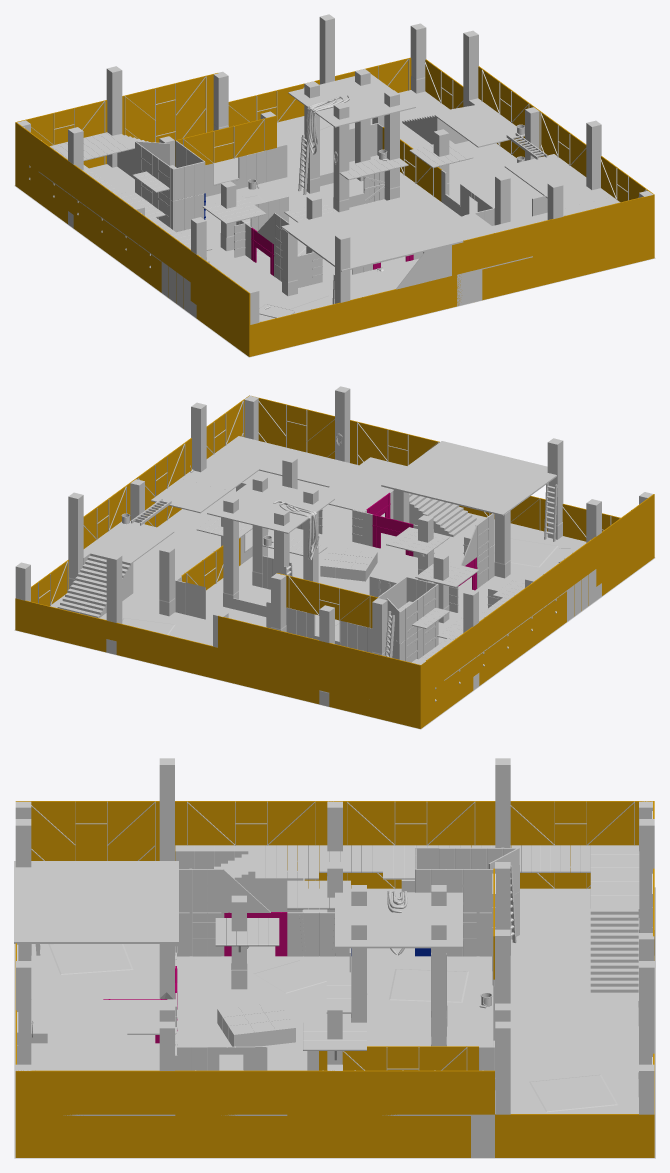
The model's file is Level1.fbx.
The picture shows the model from 3 angles, top to bottom: view 1: azimuth 30°, elevation 25°; view 2: azimuth 150°, elevation 25°; view 3: azimuth 270°, elevation 25°; orthographic projection. The views are drawn at different scales.
Visible parts, largest first — view 1: Plane, Floor_5x5.001, Wall__10x3__18_.026, Wall__10x3__18_.001, Wall__10x3__18_.027, Wall__10x3__18_.002, Wall__10x3__18_.003, Wall__10x3__18_.015, Floor_10x10__16_, Wall__10x3__18_.029, Wall__10x3__18_.028, Wall__10x3__18_.017 (+54 smaller); view 2: Plane, Floor_5x5.001, Wall__10x3__18_.015, Wall__10x3__18_.013, Wall__10x3__18_.017, Wall__10x3__18_.014, Wall__10x3__18_.012, Wall__10x3__18_.016, Floor_10x10__16_, Wall__10x3__18_.029, Stairs__1_, Wall__10x3__18_.002 (+57 smaller); view 3: Plane, Floor_5x5.001, Wall__10x3__18_.006, Wall__10x3__18_.008, Wall__10x3__18_.004, Wall__10x3__18_.010, Wall__10x3__18_.007, Wall__10x3__18_.023, Wall__10x3__18_.021, Wall__10x3__18_.005, Floor_10x10__16_, Wall__10x3__18_.025 (+56 smaller).
Part boxes in pixels (x1,y1,x2,y2): Plane: (14, 90, 655, 357); Floor_5x5.001: (281, 196, 463, 271); Wall__10x3__18_.026: (248, 300, 350, 356); Wall__10x3__18_.001: (452, 219, 553, 275); Wall__10x3__18_.027: (350, 276, 451, 332); Wall__10x3__18_.002: (553, 195, 653, 250); Wall__10x3__18_.003: (553, 227, 653, 282); Wall__10x3__18_.015: (122, 73, 218, 128); Floor_10x10__16_: (288, 74, 415, 127); Wall__10x3__18_.029: (175, 115, 276, 166); Wall__10x3__18_.028: (452, 251, 553, 307); Wall__10x3__18_.017: (15, 100, 107, 146); Plane: (14, 470, 655, 729); Floor_5x5.001: (381, 441, 556, 515); Wall__10x3__18_.015: (218, 615, 319, 672); Wall__10x3__18_.013: (116, 622, 217, 679); Wall__10x3__18_.017: (319, 641, 420, 696); Wall__10x3__18_.014: (218, 648, 319, 704); Wall__10x3__18_.012: (15, 598, 116, 652); Wall__10x3__18_.016: (319, 672, 419, 728); Floor_10x10__16_: (207, 480, 334, 533); Wall__10x3__18_.029: (277, 573, 378, 628); Stairs__1_: (57, 551, 133, 618); Wall__10x3__18_.002: (252, 396, 334, 448); Plane: (14, 887, 655, 1158); Floor_5x5.001: (14, 861, 178, 943); Wall__10x3__18_.006: (175, 1070, 334, 1114); Wall__10x3__18_.008: (335, 1070, 494, 1114); Wall__10x3__18_.004: (15, 1070, 175, 1114); Wall__10x3__18_.010: (495, 1113, 654, 1157); Wall__10x3__18_.007: (175, 1114, 334, 1157); Wall__10x3__18_.023: (175, 801, 334, 845); Wall__10x3__18_.021: (335, 801, 494, 845); Wall__10x3__18_.005: (15, 1114, 175, 1157); Floor_10x10__16_: (335, 892, 462, 948); Wall__10x3__18_.025: (15, 801, 175, 845).
Bounding box in the file's own units: 4018 × 1100 × 4018.
